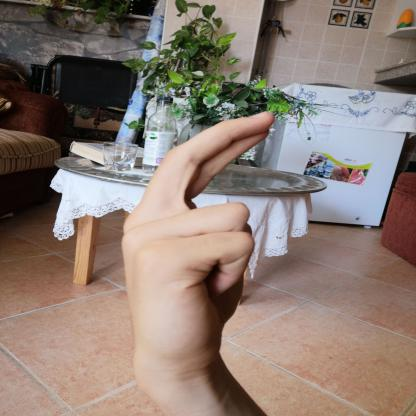ZAY: (110, 104, 288, 388)
